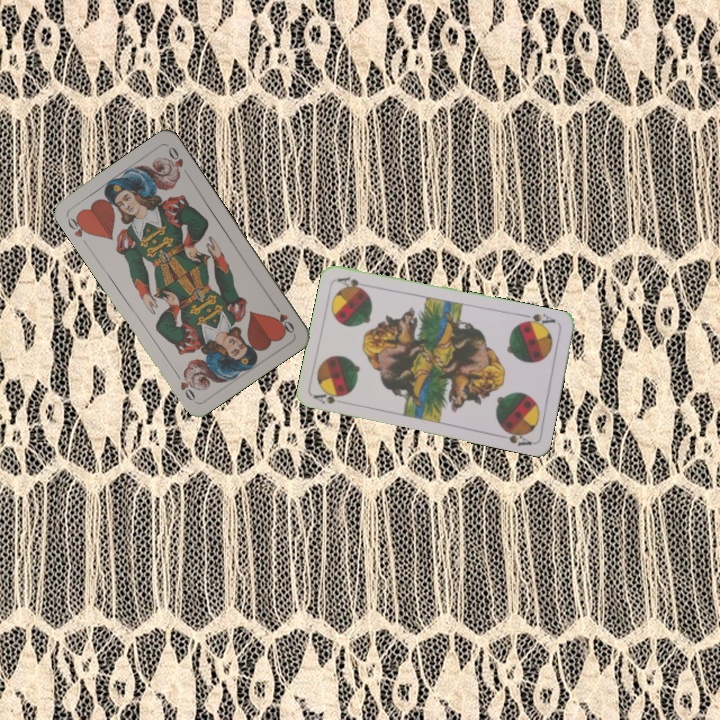HO: (269, 300, 297, 336), (62, 211, 92, 240)
SA: (518, 309, 558, 330), (310, 387, 348, 407)
